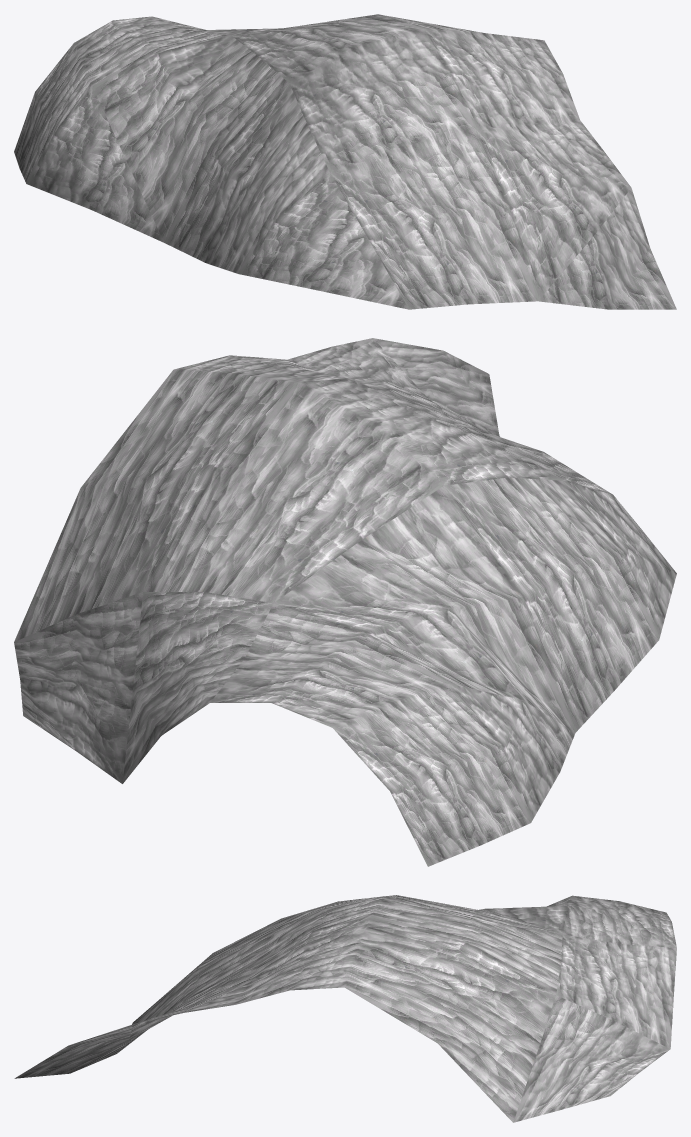
File: SWORDLIGHT20_PS-AREA03_47.fbx
3 views of the same model, one above another, from view 1: azimuth 30°, elevation 25°; view 2: azimuth 150°, elevation 25°; view 3: azimuth 270°, elevation 25° (orthographic). The views are drawn at different scales.
Visible parts, largest first — view 1: SWORDLIGHT20_PS-AREA03_47; view 2: SWORDLIGHT20_PS-AREA03_47; view 3: SWORDLIGHT20_PS-AREA03_47.
Part boxes in pixels (bbox=[...]): SWORDLIGHT20_PS-AREA03_47: bbox=[14, 14, 676, 309]; SWORDLIGHT20_PS-AREA03_47: bbox=[14, 338, 676, 866]; SWORDLIGHT20_PS-AREA03_47: bbox=[14, 895, 676, 1122].
Size of the model in its own units: 218395 by 90219 by 333484.
1 material, 1 textured.
